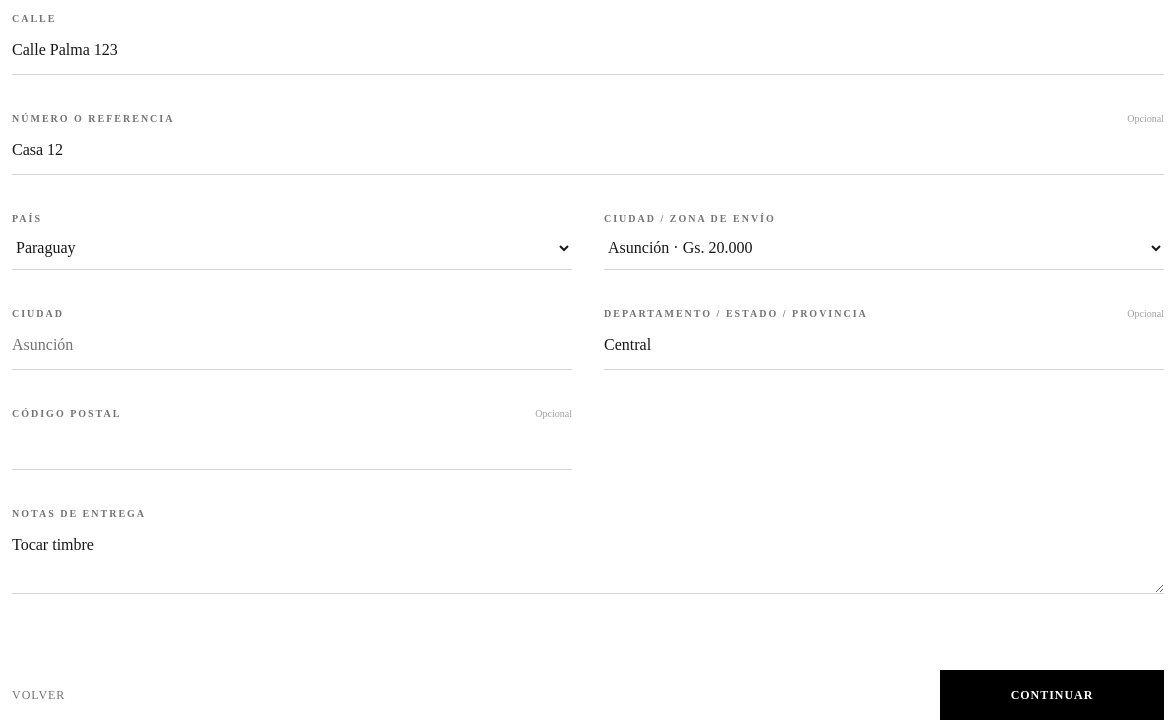
it: ShippingStep › rejects an invalid phone and an invalid email
The width and height of the screenshot is (1176, 720).
(page scrolled)
Click the button "Continuar".
click(1052, 695)  # box [940,670,1164,719]
(page scrolled)
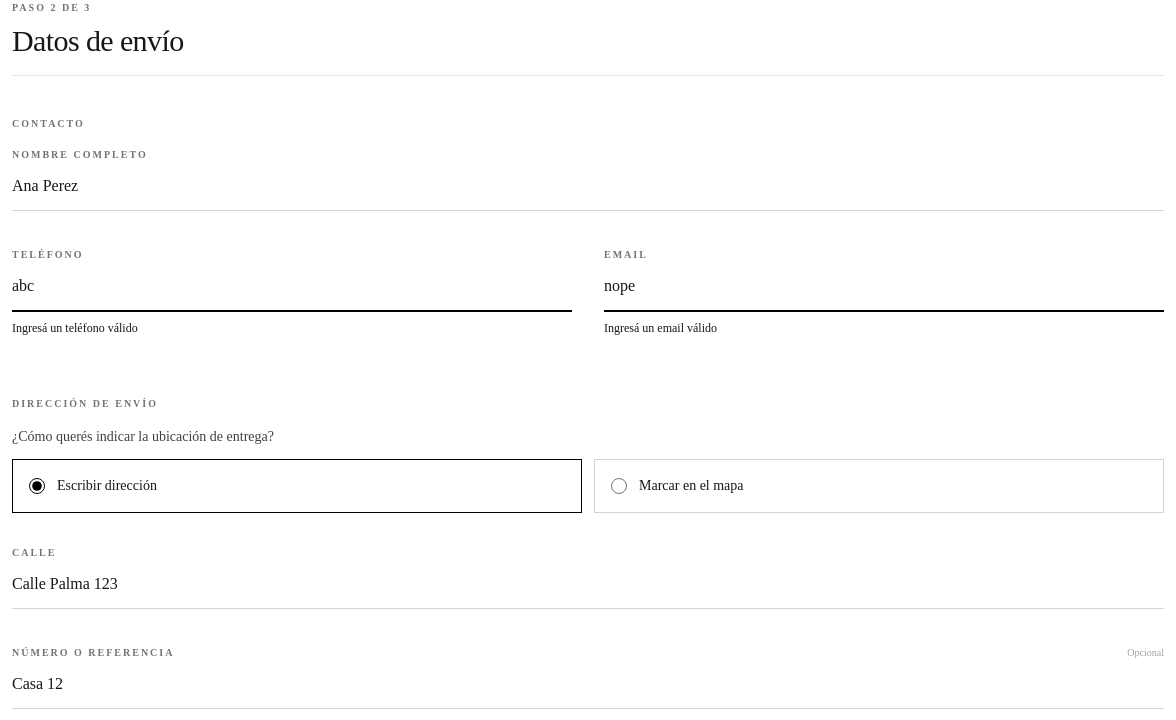
Result: the text "Ingresá un teléfono válido" is shown at [12,321,138,335]
Result: the text "Ingresá un email válido" is shown at [604,321,717,335]
